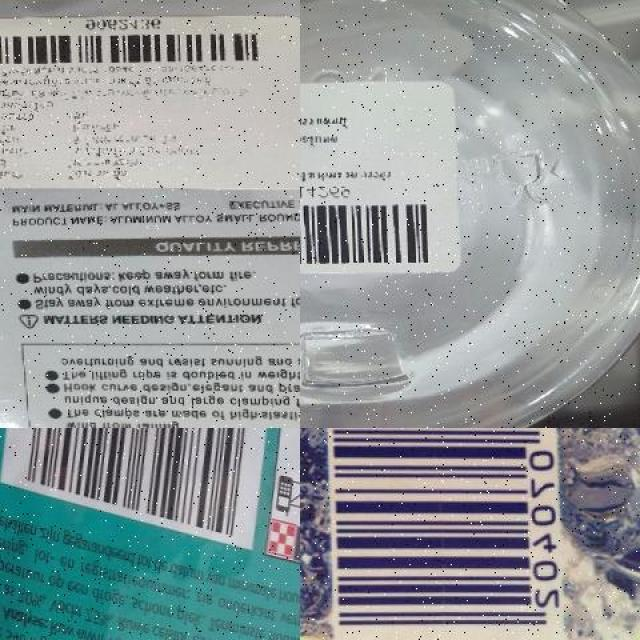Barcode: (316, 428, 563, 640), (0, 428, 281, 550), (0, 19, 268, 72), (300, 184, 444, 273)
